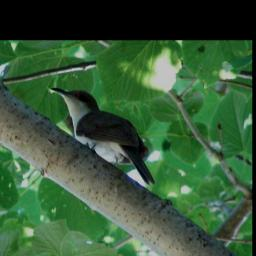Cuckoo: (48, 86, 157, 188)
